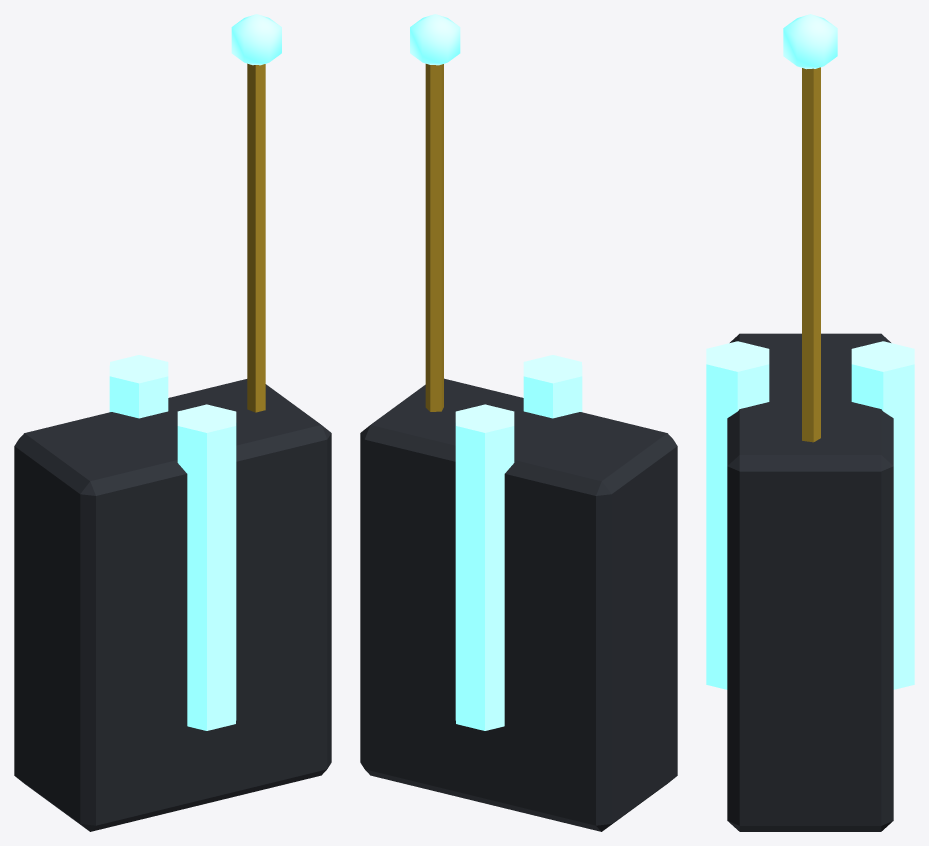
File: dc_backpack_gen.glb
3 renders of one model, left to right at view 1: azimuth 30°, elevation 25°; view 2: azimuth 150°, elevation 25°; view 3: azimuth 270°, elevation 25°, orthographic. The views are drawn at different scales.
Parts seen in each view (by area): view 1: part.dc_backpack_gen; view 2: part.dc_backpack_gen; view 3: part.dc_backpack_gen.
Boxes of the visible parts, <box> form: part.dc_backpack_gen: <box>14,14,331,831</box>; part.dc_backpack_gen: <box>360,14,677,831</box>; part.dc_backpack_gen: <box>706,14,914,831</box>.
Bounding box in the file's own units: 0.3 × 0.85 × 0.2006.
